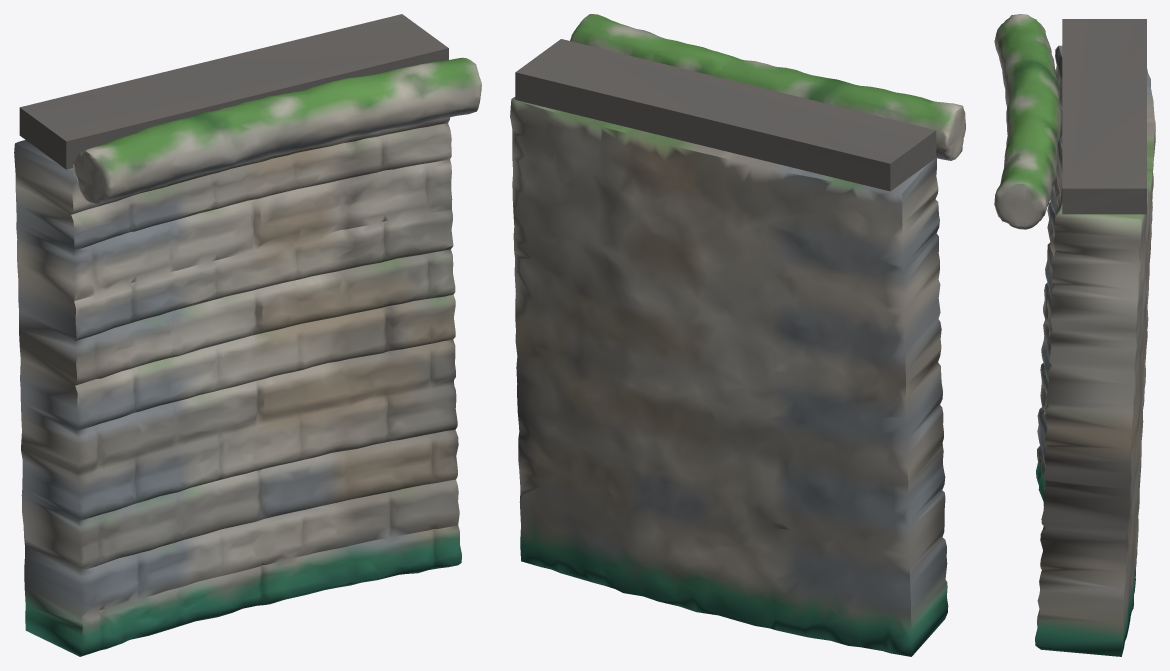
File: grotto_basin_wall.glb
The picture shows the model from 3 angles, left to right: view 1: azimuth 30°, elevation 25°; view 2: azimuth 150°, elevation 25°; view 3: azimuth 270°, elevation 25°; orthographic projection. The views are drawn at different scales.
Visible parts, largest first — view 1: grotto_basin_wall; view 2: grotto_basin_wall; view 3: grotto_basin_wall.
Boxes of the visible parts, x1,y1,x2,y2 form: grotto_basin_wall: (14, 14, 481, 656); grotto_basin_wall: (510, 14, 965, 656); grotto_basin_wall: (994, 14, 1155, 656).
Size of the model in its own units: 29.72 by 36.89 by 11.42.
